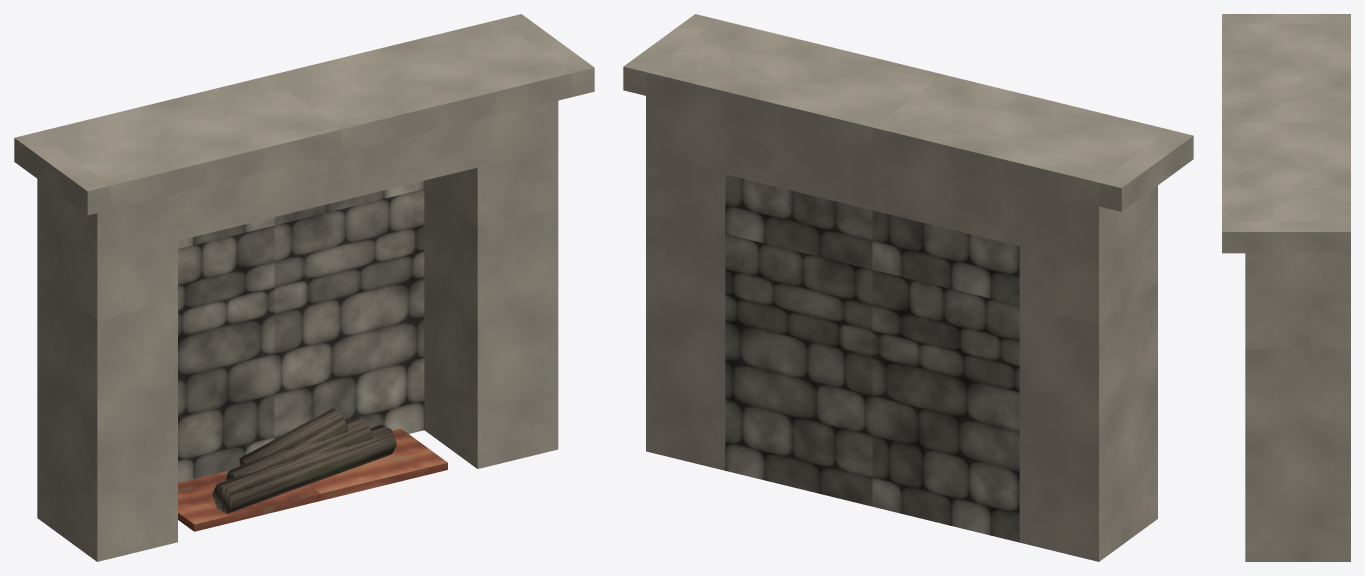
The model's file is Fireplace_Mantel_1_LOD1.gltf.
3 renders of one model, left to right at view 1: azimuth 30°, elevation 25°; view 2: azimuth 150°, elevation 25°; view 3: azimuth 270°, elevation 25°, orthographic. The views are drawn at different scales.
Parts seen in each view (by area): view 1: Fireplace_Mantel_1_LOD1; view 2: Fireplace_Mantel_1_LOD1; view 3: Fireplace_Mantel_1_LOD1.
Part boxes in pixels (box(x1,y1,x2,y2)): Fireplace_Mantel_1_LOD1: box(14, 14, 594, 561); Fireplace_Mantel_1_LOD1: box(623, 14, 1193, 561); Fireplace_Mantel_1_LOD1: box(1222, 14, 1350, 561).
Size of the model in its own units: 2.2 by 1.6 by 0.55.
Materials: 4 (4 with a texture image).
